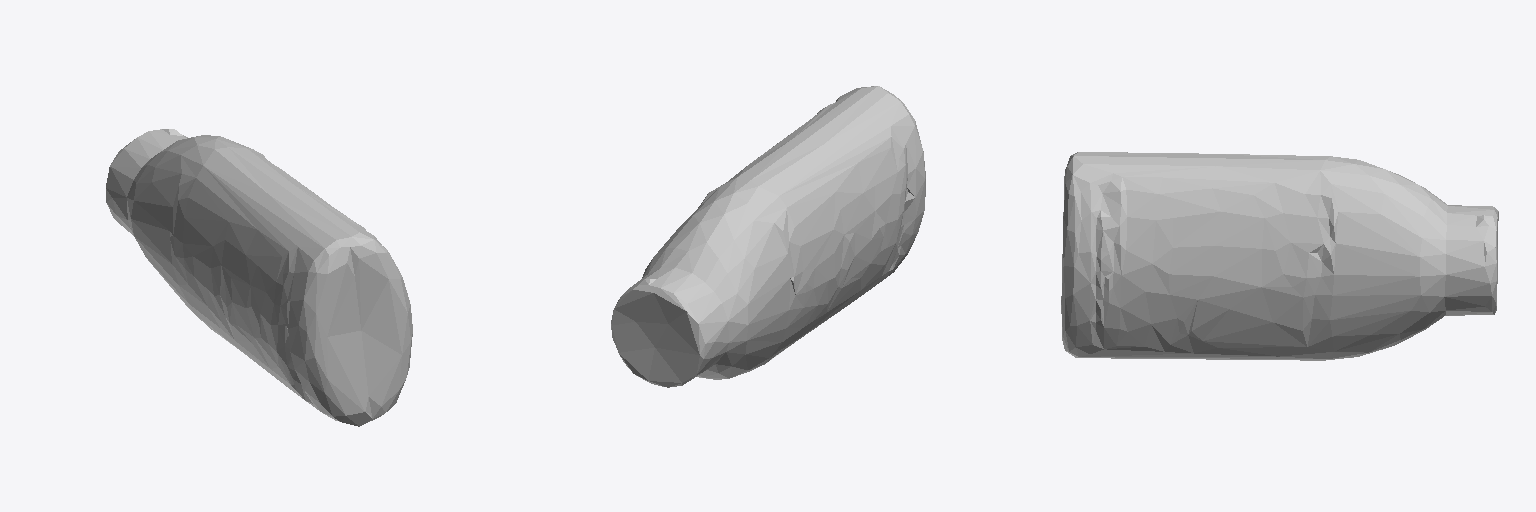
File: bottle6.obj
3 views of the same model, side by side, from view 1: azimuth 30°, elevation 25°; view 2: azimuth 150°, elevation 25°; view 3: azimuth 270°, elevation 25° (orthographic).
Visible parts, largest first — view 1: HamburgerSauce_800_tex; view 2: HamburgerSauce_800_tex; view 3: HamburgerSauce_800_tex.
Part boxes in pixels (x1,y1,x2,y2): HamburgerSauce_800_tex: (106,129,412,426); HamburgerSauce_800_tex: (611,86,925,387); HamburgerSauce_800_tex: (1061,152,1498,360).
Bounding box in the file's own units: 0.0283 × 0.045 × 0.0924.